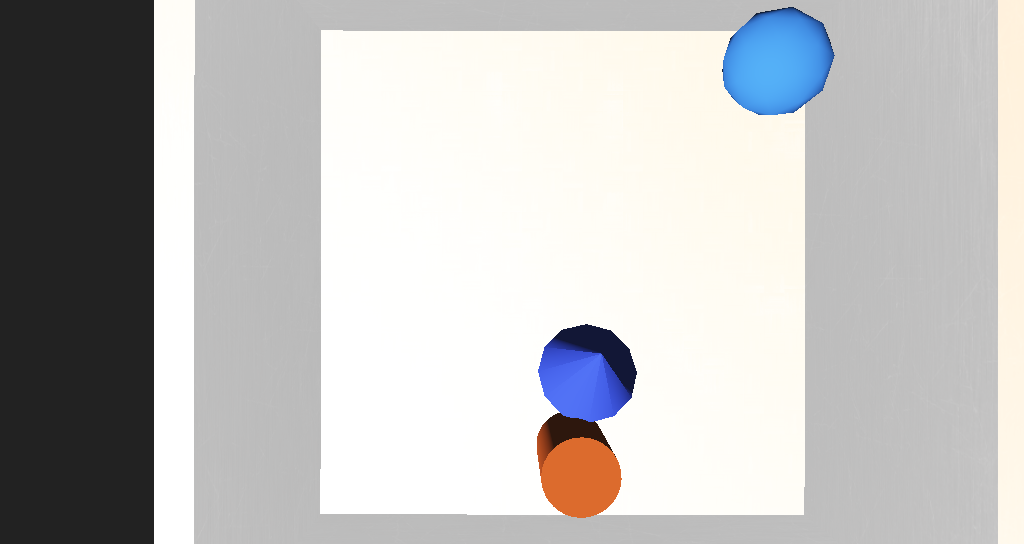cone: (488, 329, 536, 367)
cylinder: (495, 279, 556, 341)
sphere: (603, 160, 664, 203)
